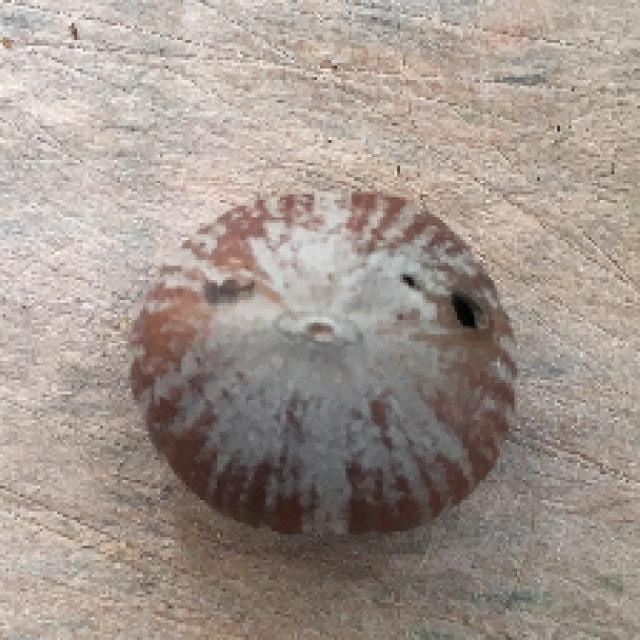DamagedHazelnut: (126, 193, 518, 538)
